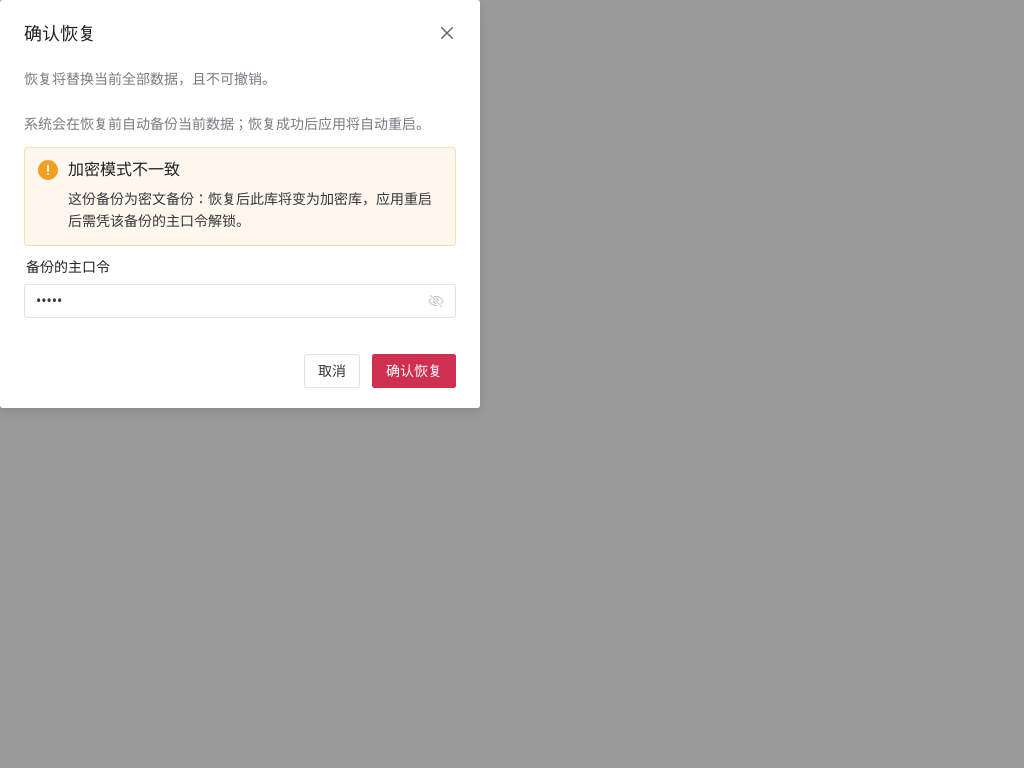
Test: RestoreConfirmModal（恢复确认弹窗，issue #572） › 确认失败：错误留在弹窗内可就地重试（口令错误不关弹窗）
Click the button with test id "restore-confirm" at point(414, 371), box [372,354,456,388]
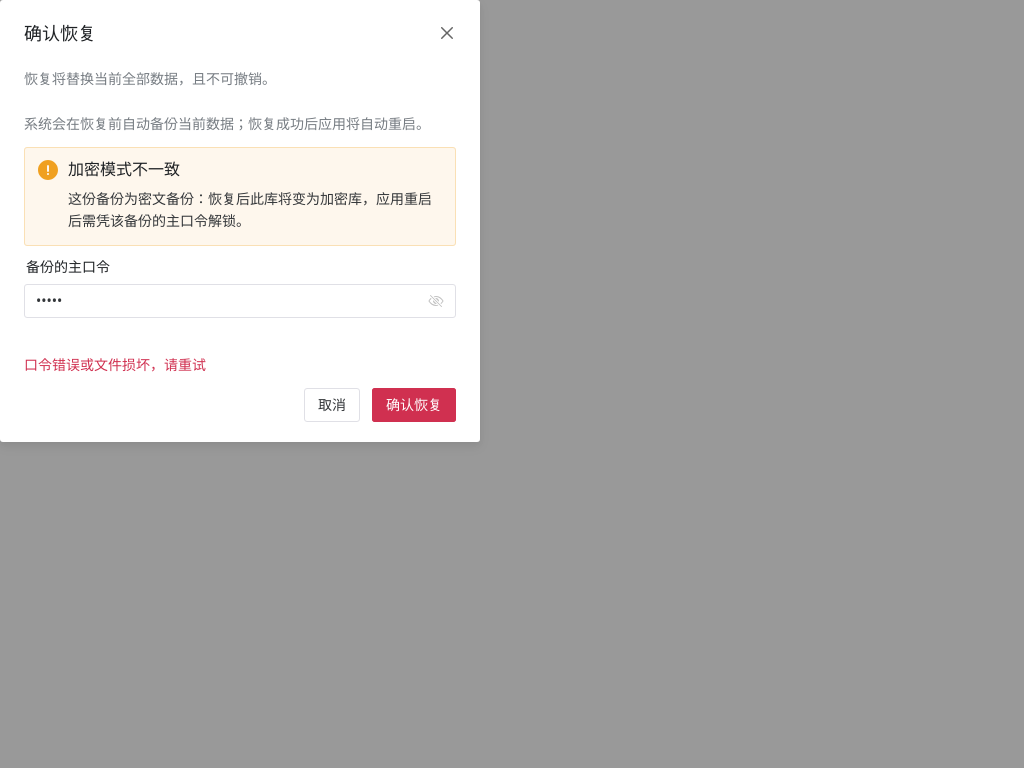
Expected: the button with test id "restore-confirm" is shown, [372,388,456,422]
Expected: the text "口令错误或文件损坏，请重试" is shown, [24,355,206,374]
